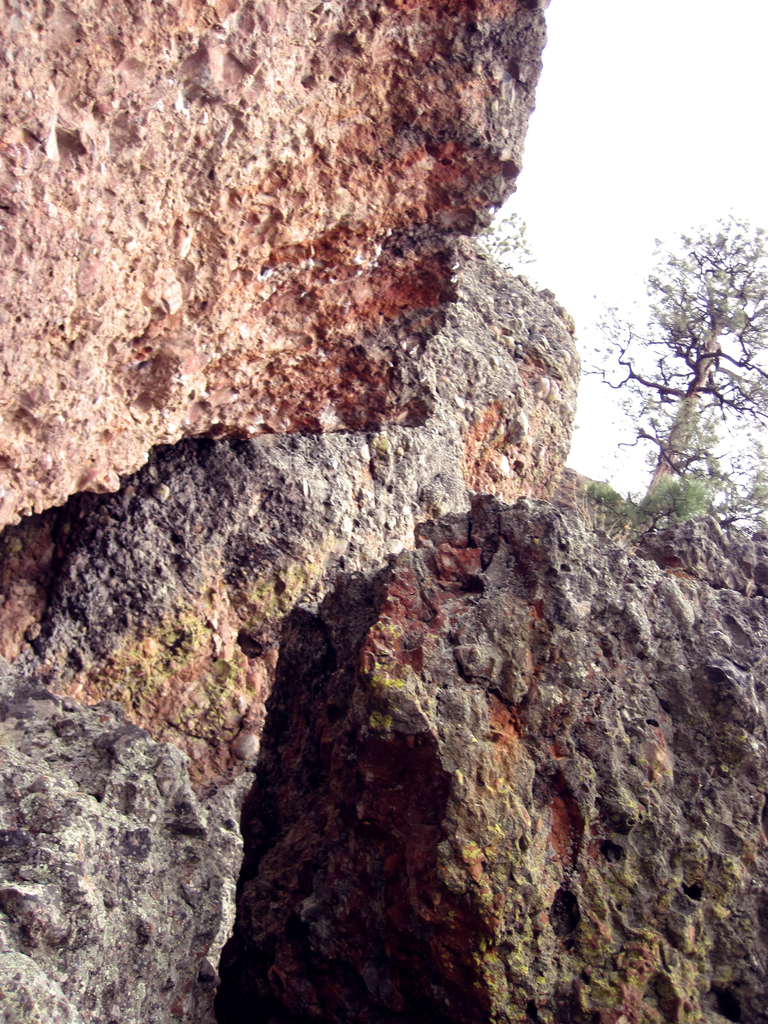Tree: (577, 204, 768, 548)
